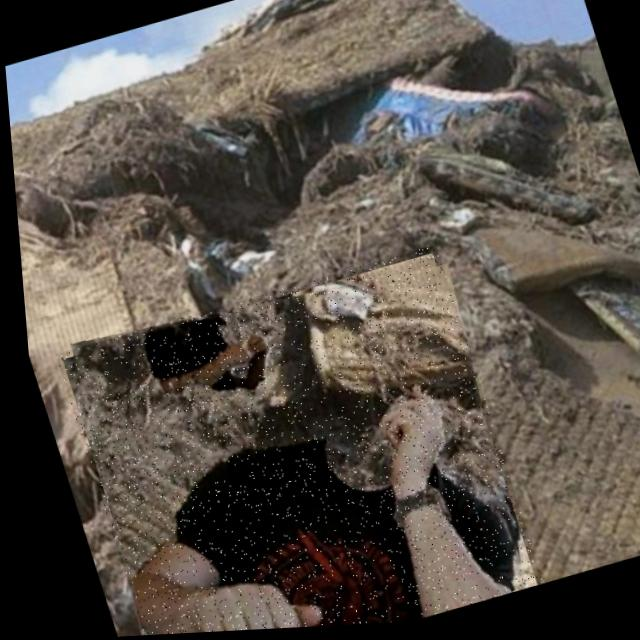Person in Rubble: (43, 245, 534, 639)
